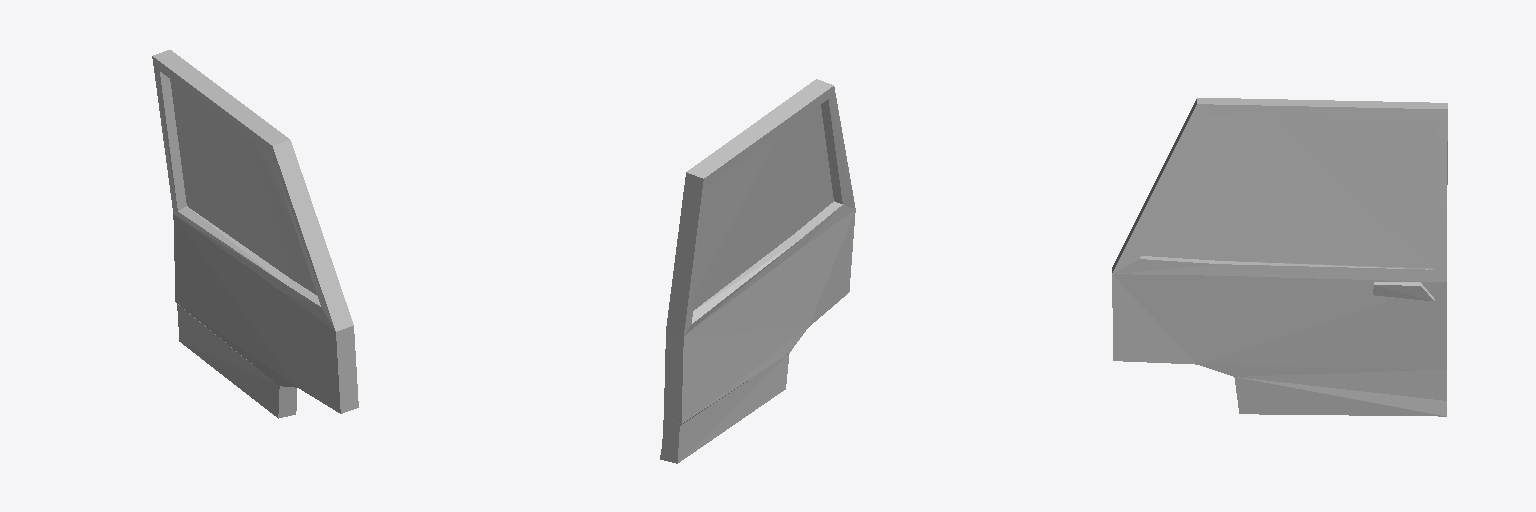
Rendered from Van_Door_F_L.obj.
3 views of the same model, side by side, from view 1: azimuth 30°, elevation 25°; view 2: azimuth 150°, elevation 25°; view 3: azimuth 270°, elevation 25° (orthographic).
Visible parts, largest first — view 1: Van_Door_F_L; view 2: Van_Door_F_L; view 3: Van_Door_F_L.
Part boxes in pixels (left/top/right/bottom): Van_Door_F_L: left=152, top=50, right=358, bottom=418; Van_Door_F_L: left=660, top=79, right=855, bottom=463; Van_Door_F_L: left=1112, top=98, right=1447, bottom=416.
Bounding box in the file's own units: 0.5111 × 2.92 × 2.99.